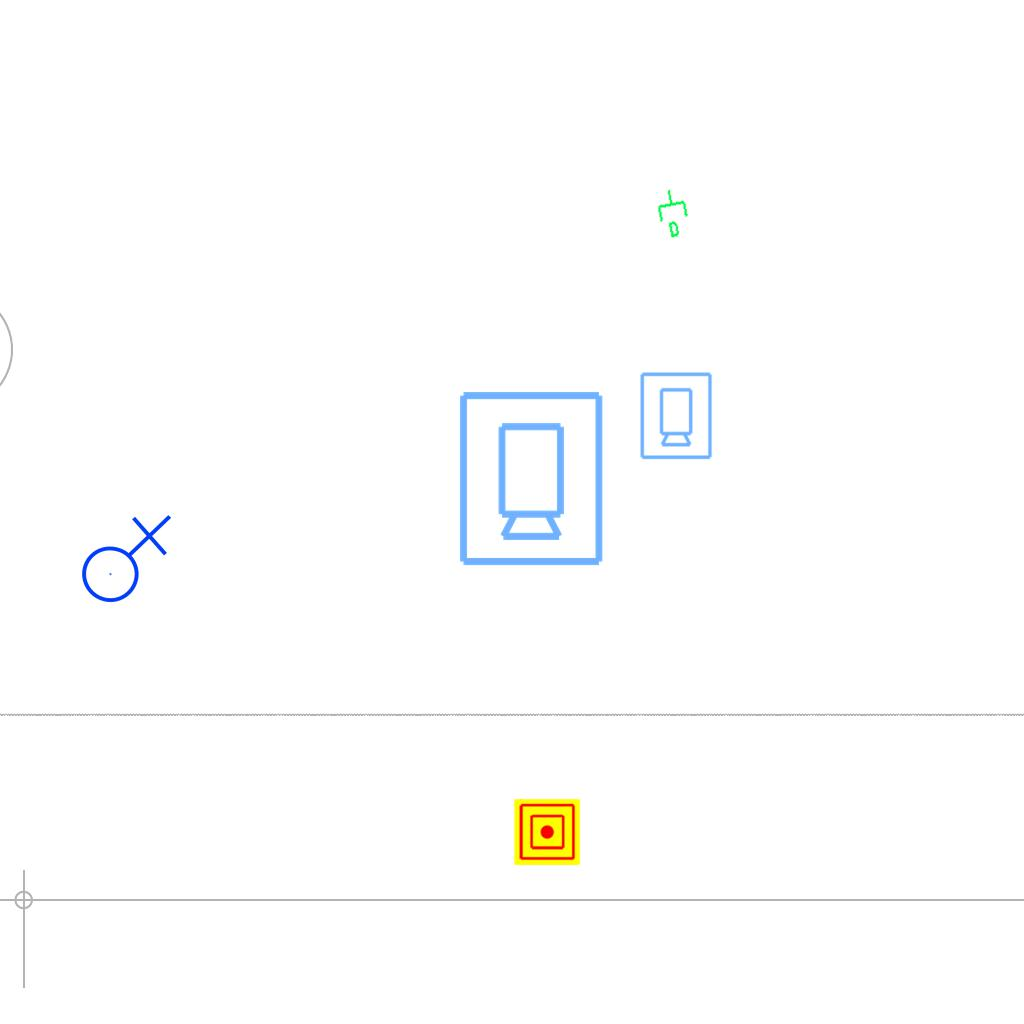Datenanschluss_einfach: (652, 185, 696, 241)
Elektroanschluss_allgemein_230V_Geraeteanschlussdose_230V: (73, 510, 172, 604)
KFO_Kamera_mit_Festobjektiv: (453, 387, 607, 569), (637, 370, 714, 461)
NAM-Nichtautomatischer_Melder: (514, 799, 580, 865)
